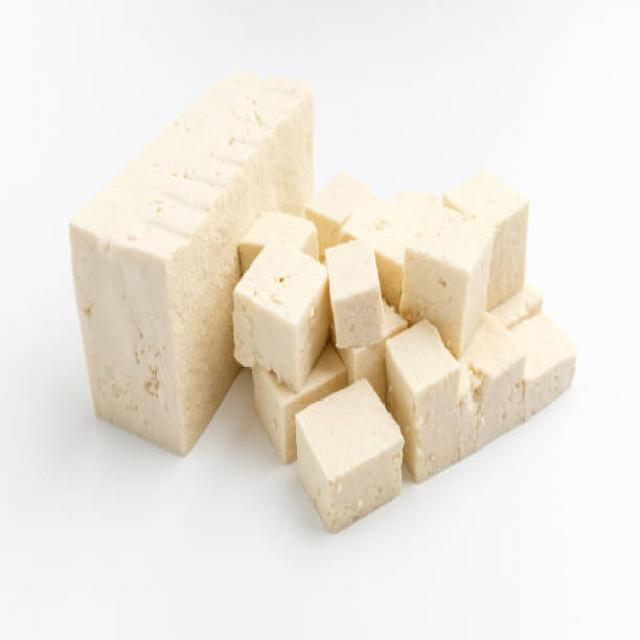tofu: (62, 60, 314, 442), (295, 377, 402, 536), (403, 200, 496, 354), (233, 241, 331, 383), (390, 324, 470, 476)
